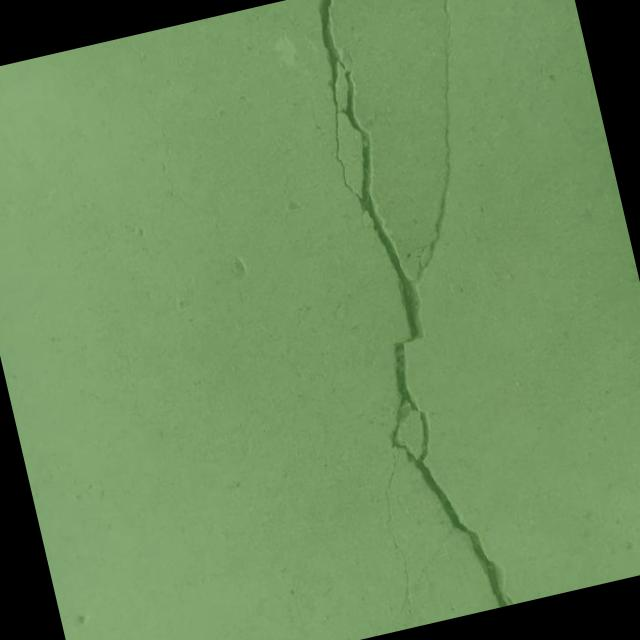crack: (249, 0, 598, 631)
